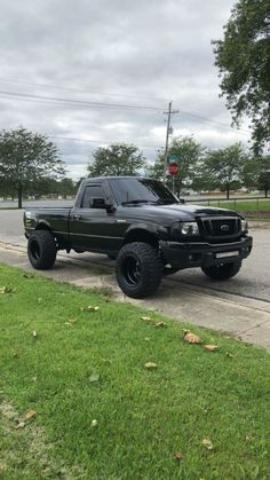pickup-truck: (22, 176, 253, 298)
